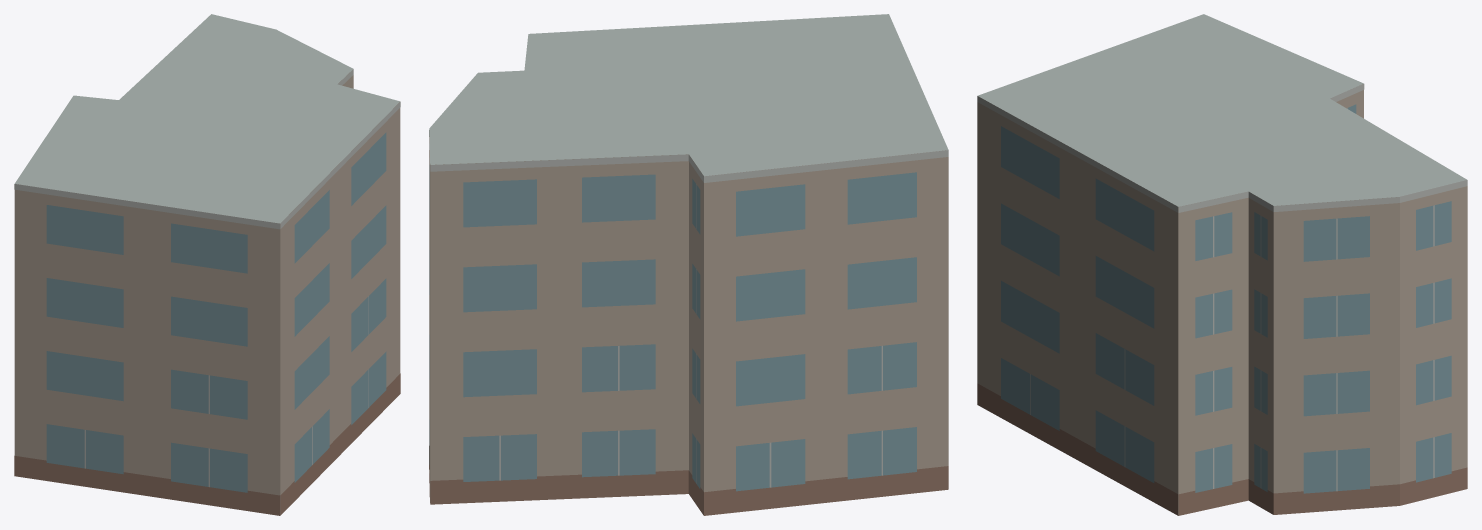
The model's file is survey-upis-32778577.glb.
3 renders of one model, left to right at view 1: azimuth 30°, elevation 25°; view 2: azimuth 150°, elevation 25°; view 3: azimuth 270°, elevation 25°, orthographic. The views are drawn at different scales.
Parts seen in each view (by area): view 1: survey-upis-32778577.tmp; view 2: survey-upis-32778577.tmp; view 3: survey-upis-32778577.tmp.
Boxes of the visible parts, x1=… form: survey-upis-32778577.tmp: x1=14, y1=14, x2=400, y2=515; survey-upis-32778577.tmp: x1=429, y1=14, x2=948, y2=515; survey-upis-32778577.tmp: x1=977, y1=14, x2=1467, y2=515.
Bounding box in the file's own units: 16.34 × 12.2 × 17.55.
